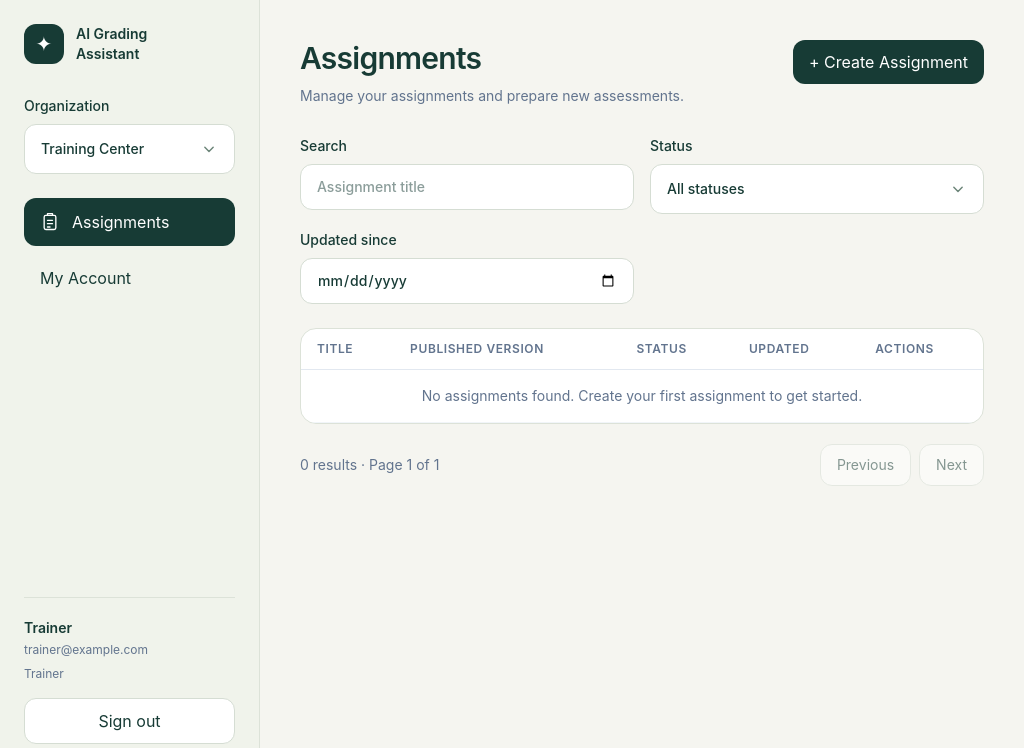
limits Trainer navigation and confirms leaving unsaved assignment work
The width and height of the screenshot is (1024, 748).
Click the button "+ Create Assignment": point(888, 62) [793,40,984,84]
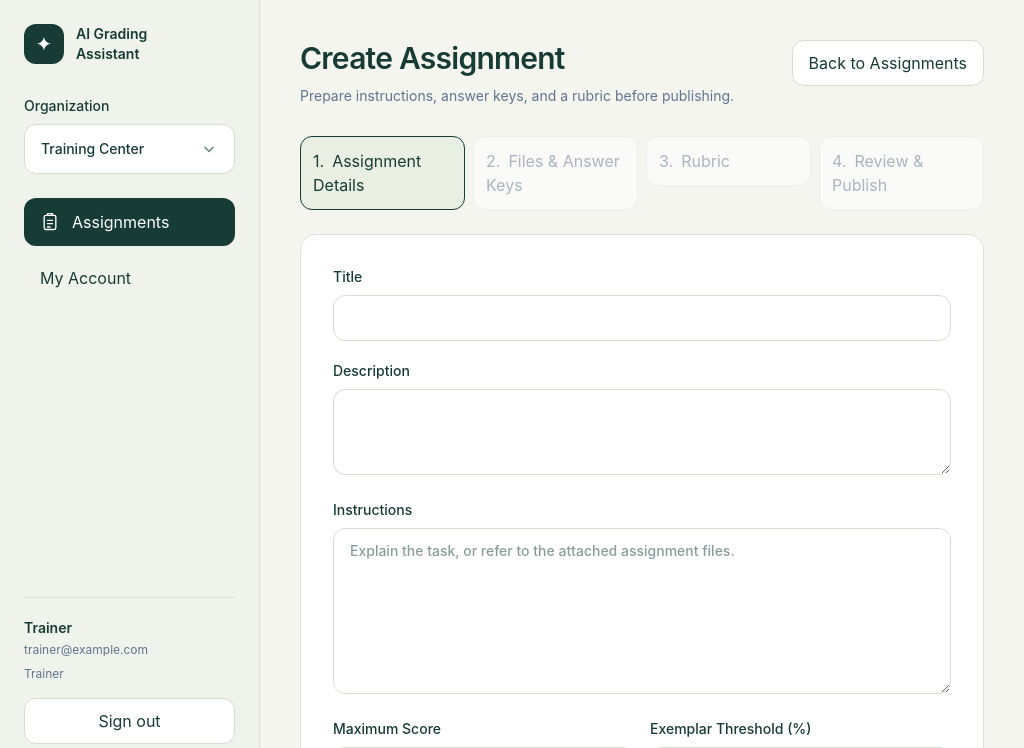
In the field labelled "Title": point(642, 318) [333,295,951,341], type "Unsaved exercise"
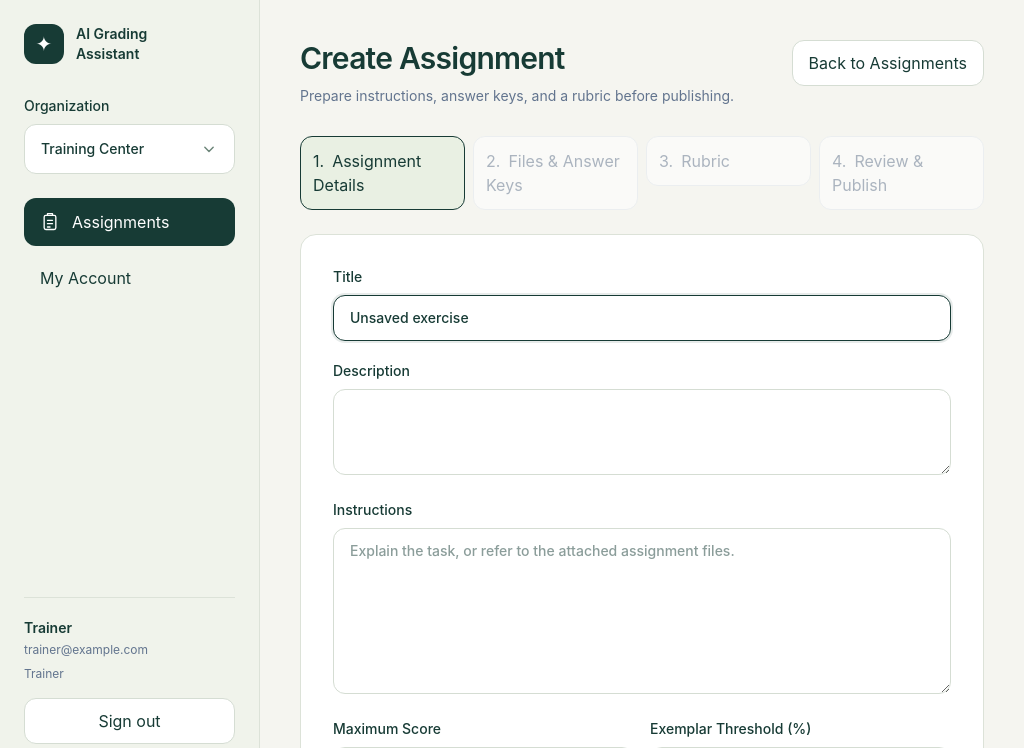
Click the button "My Account": point(130, 278) [24,254,235,302]
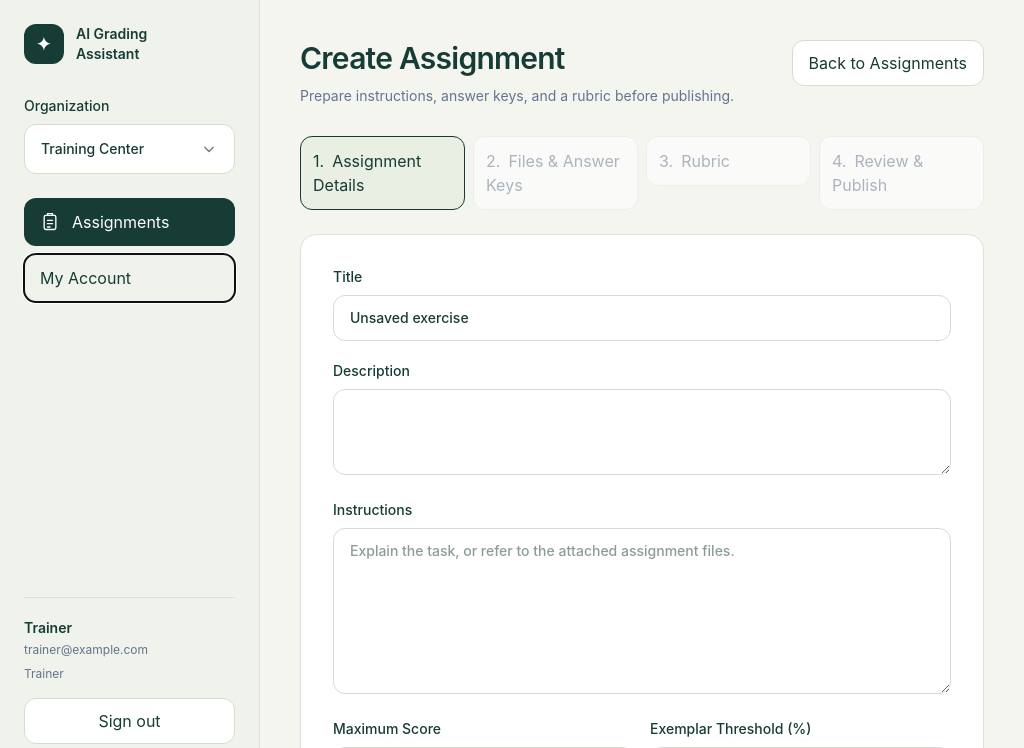
Click the button "My Account": point(130, 278) [24,254,235,302]
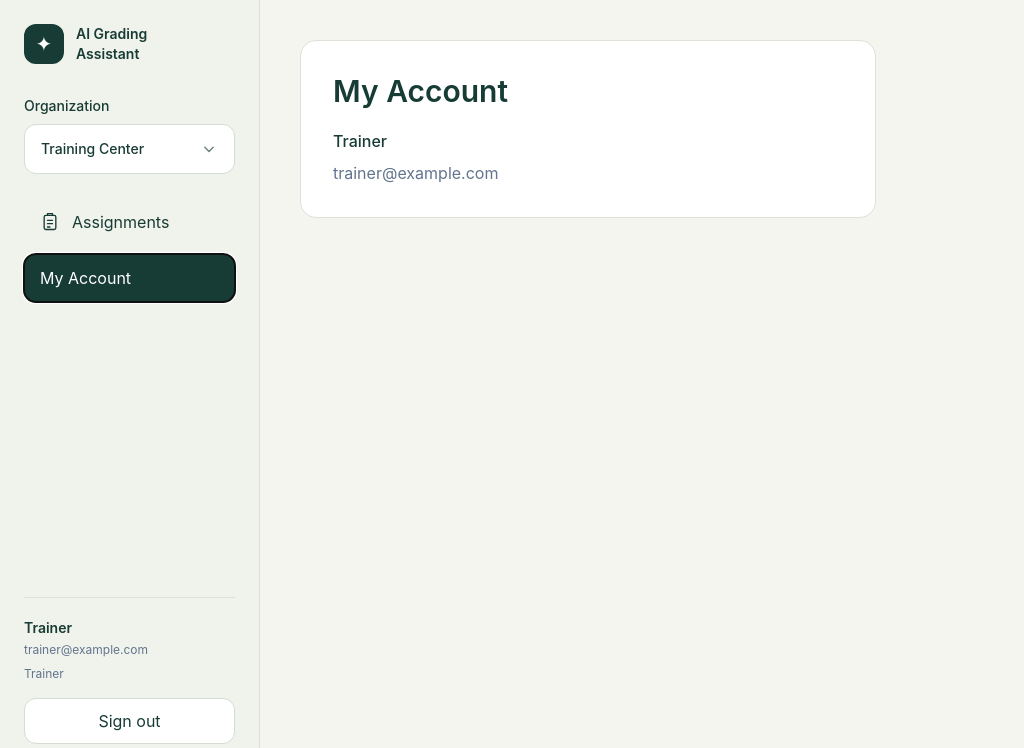
Check: the heading "My Account" is shown, box [333,73,508,109]
